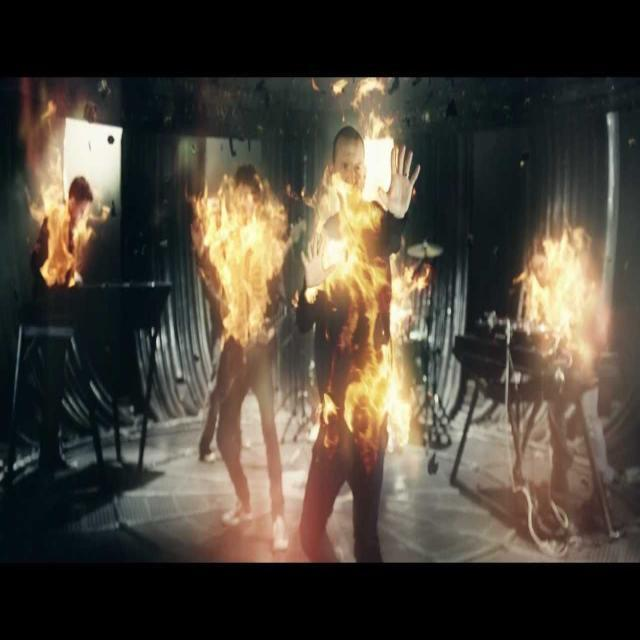Fire: (294, 165, 414, 454), (12, 78, 89, 311), (191, 167, 291, 338), (512, 215, 598, 366)
